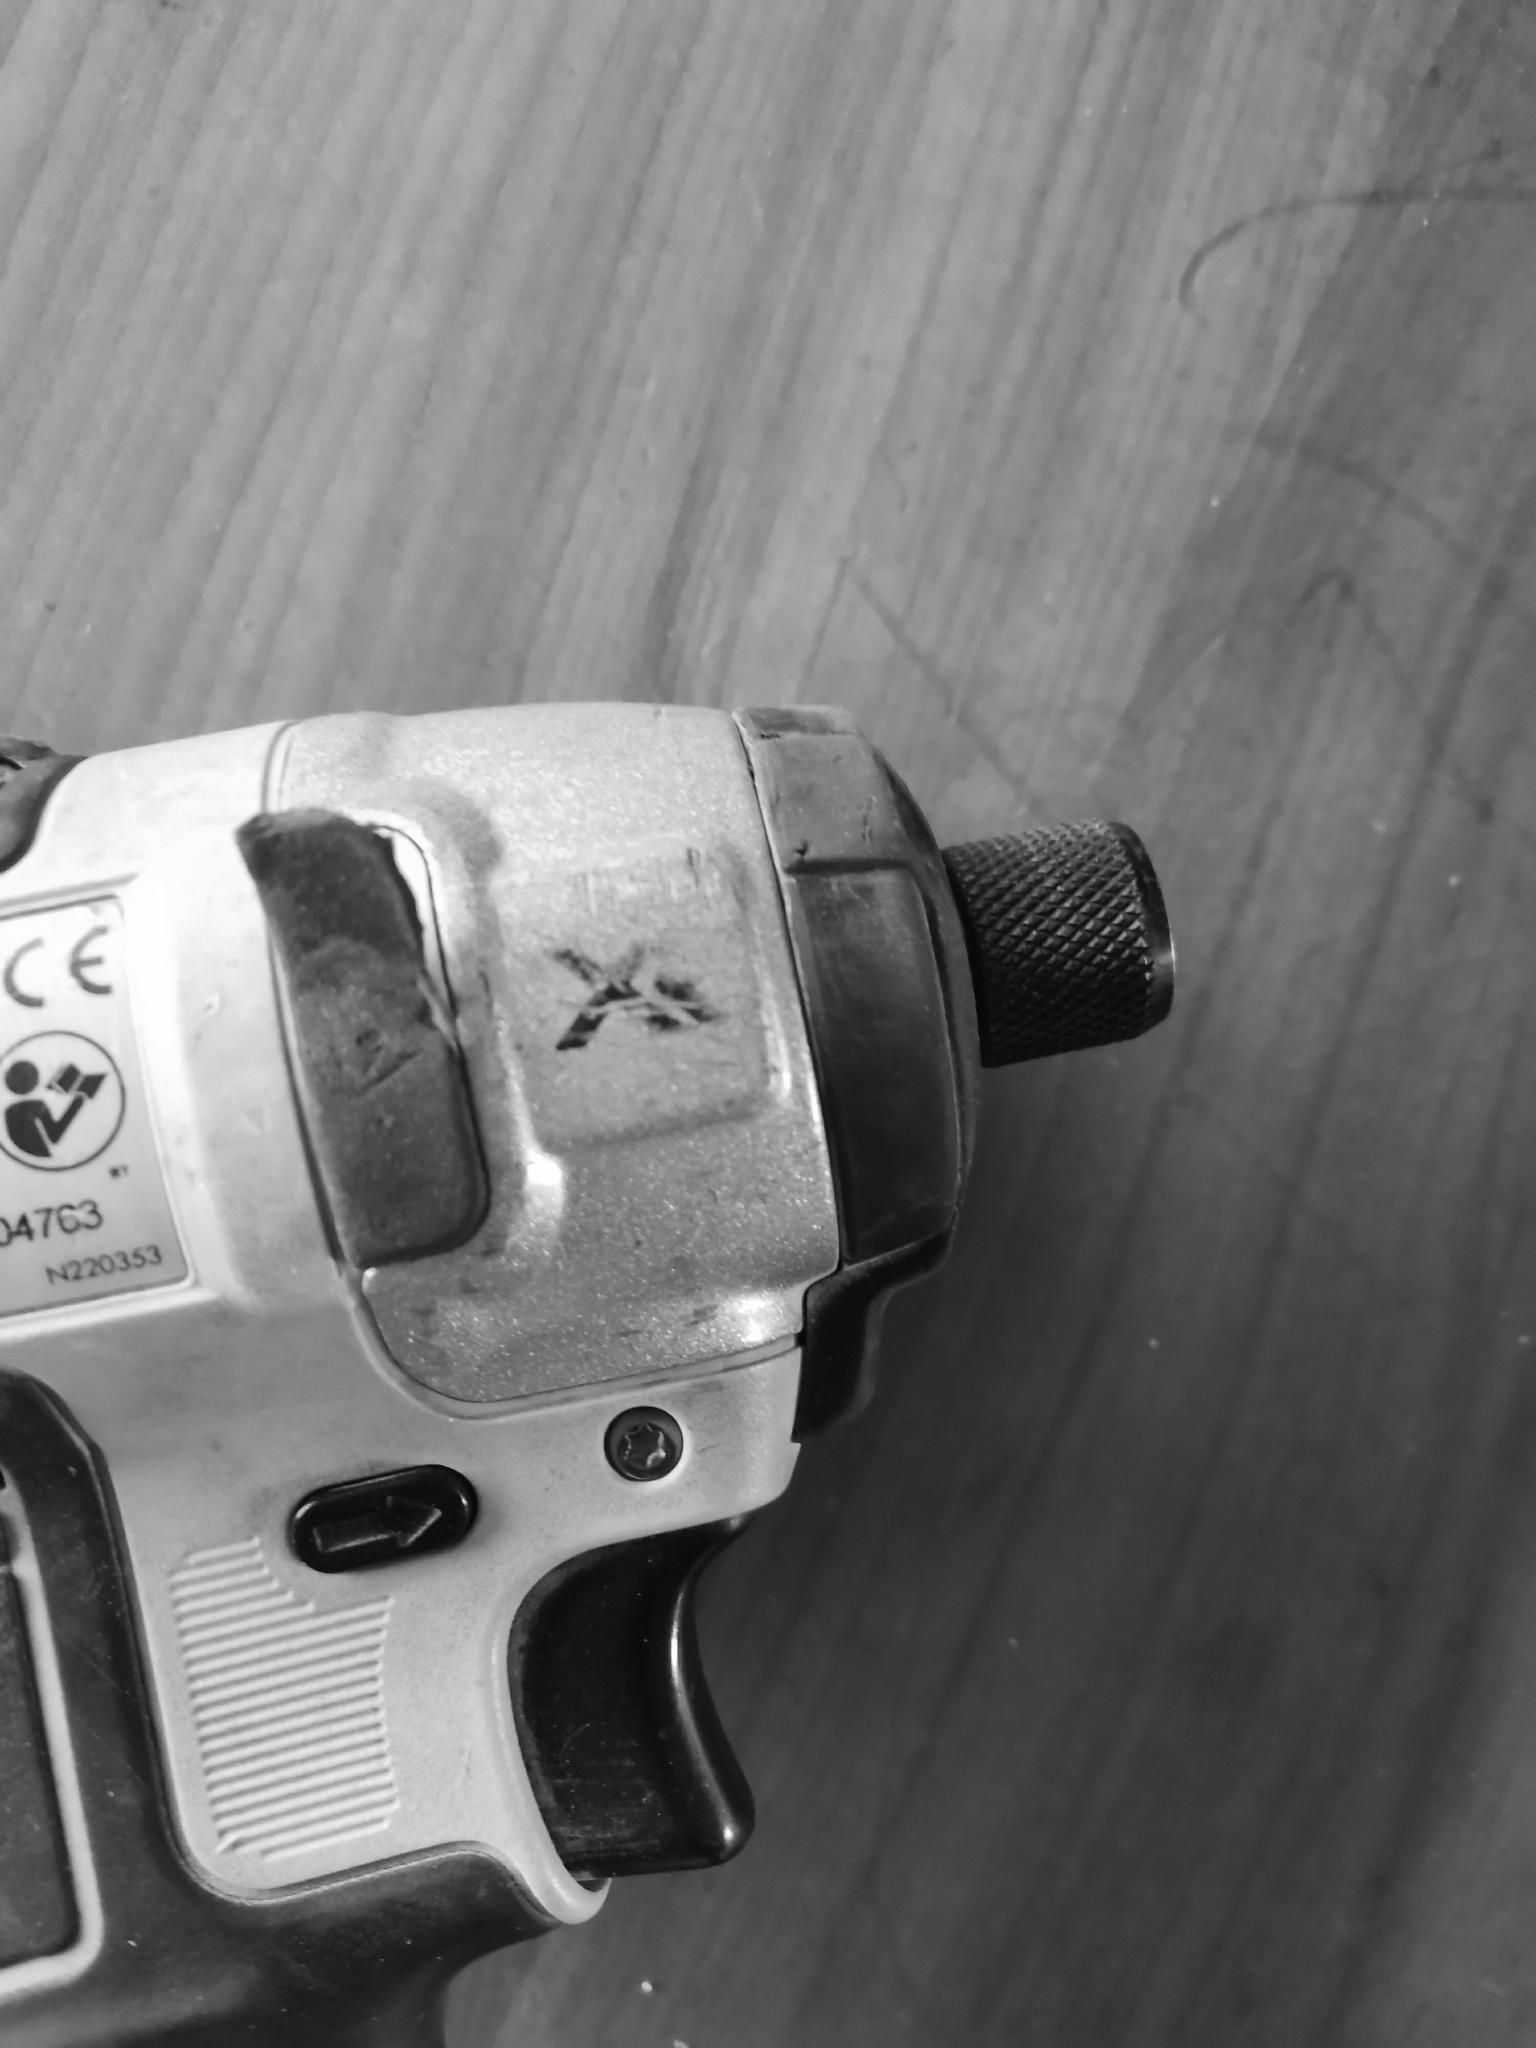screw: (591, 1408, 687, 1495)
